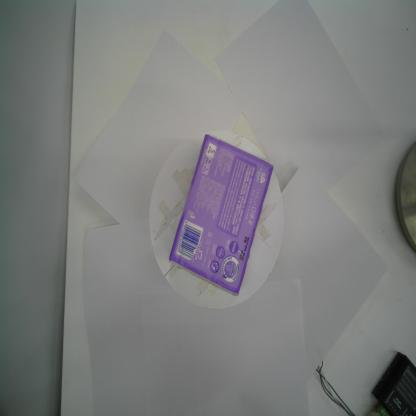Tissue: (168, 131, 276, 298)
